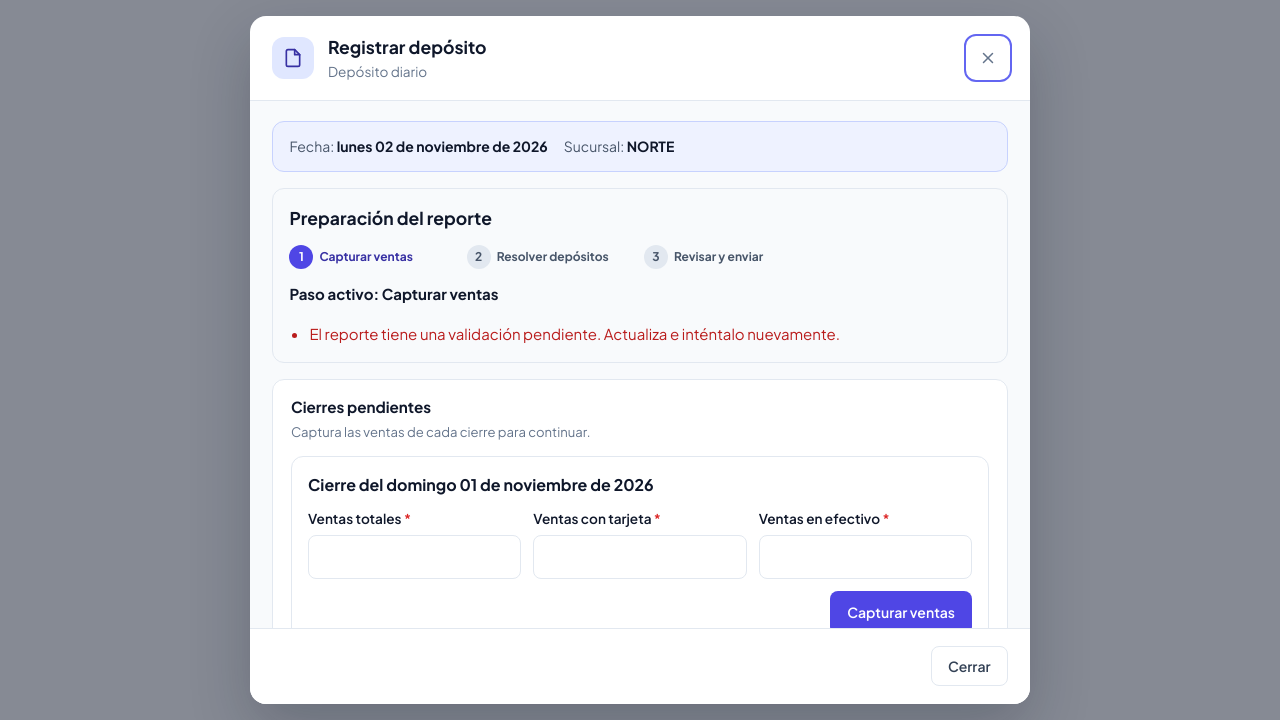
Test: DepositDemoModal › shows field errors, focuses the first missing sales control, and does not capture incomplete sales
Click the button "Capturar ventas": (901, 613) [830,591,972,635]
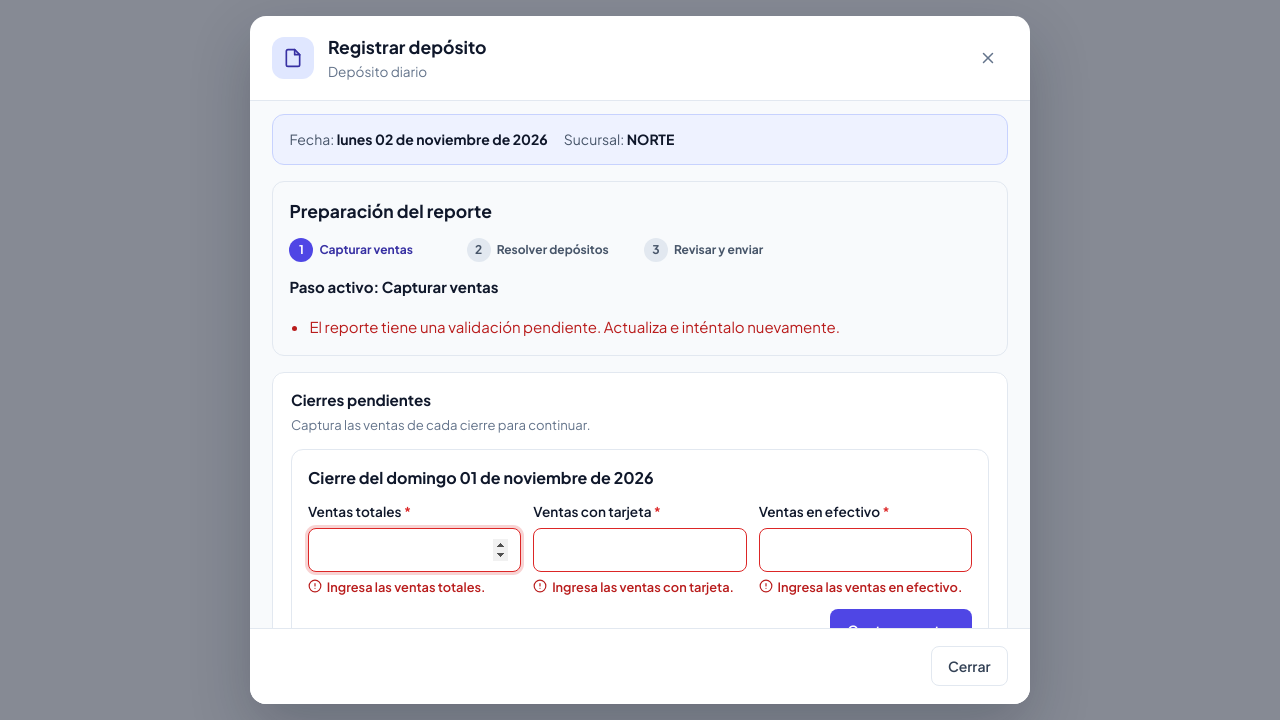
Result: the text "Ingresa las ventas totales." is shown at [308,578,486,594]
